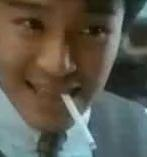smoke: (58, 88, 98, 150)
